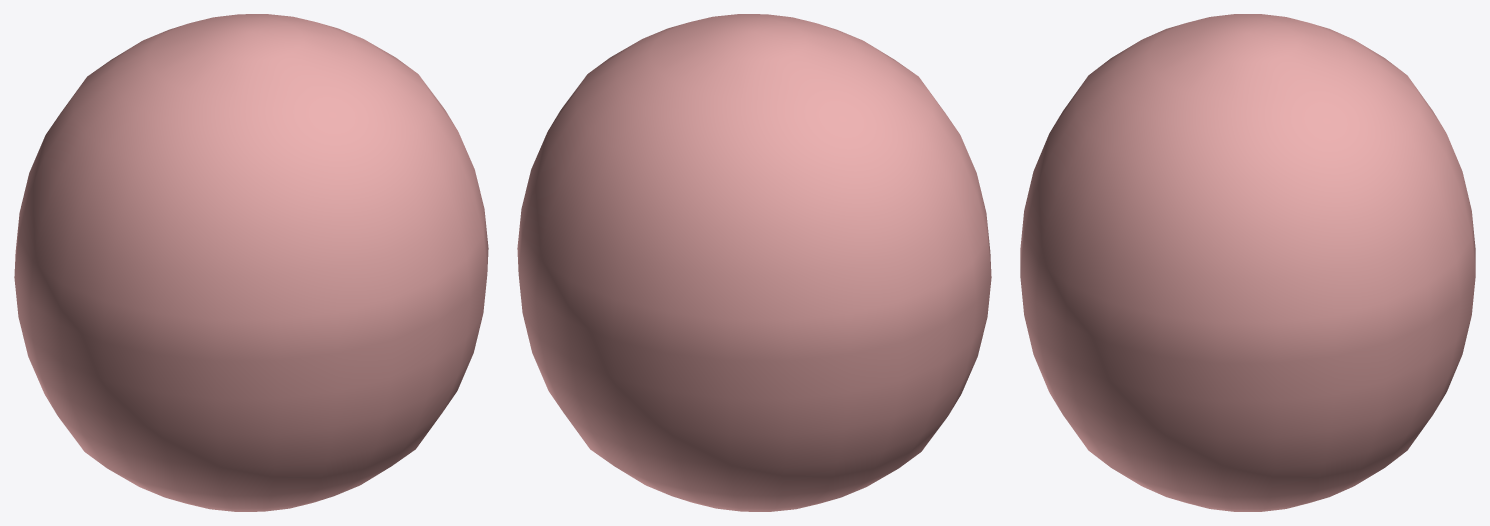
Rendered from Ojo Normal.fbx.
The picture shows the model from 3 angles, left to right: view 1: azimuth 30°, elevation 25°; view 2: azimuth 150°, elevation 25°; view 3: azimuth 270°, elevation 25°; orthographic projection.
Parts seen in each view (by area): view 1: Watermelon_Full; view 2: Watermelon_Full; view 3: Watermelon_Full.
Part boxes in pixels (<box>): Watermelon_Full: <box>14,14,488,511</box>; Watermelon_Full: <box>517,14,991,511</box>; Watermelon_Full: <box>1020,14,1475,511</box>.
Bounding box in the file's own units: 6.02 × 6.41 × 5.77.
